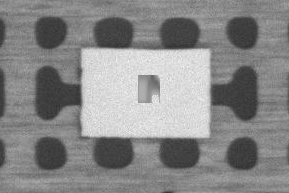DIE_INK: (207, 50, 240, 69)
